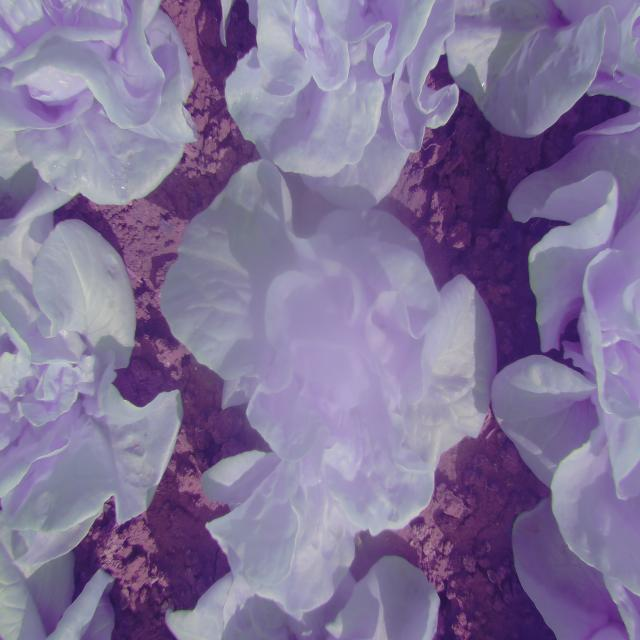vege: (150, 160, 510, 597)
